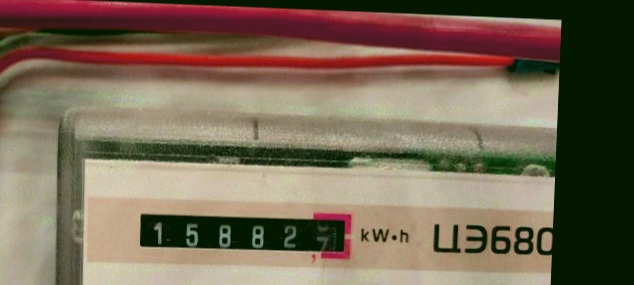1: (149, 216, 164, 245)
2: (280, 221, 297, 249)
5: (181, 219, 200, 246)
7: (312, 232, 328, 250)
8: (214, 220, 231, 249), (248, 220, 264, 249)
screen: (123, 195, 361, 267)
